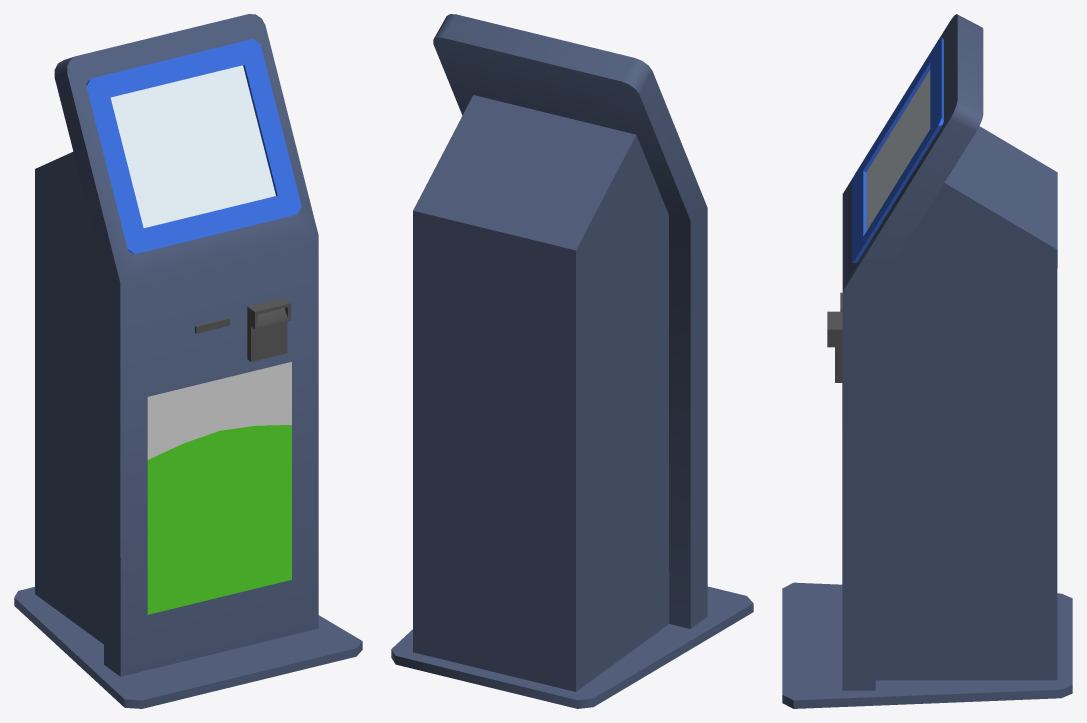
The model's file is atm.fbx.
3 renders of one model, left to right at view 1: azimuth 30°, elevation 25°; view 2: azimuth 150°, elevation 25°; view 3: azimuth 270°, elevation 25°, orthographic. The views are drawn at different scales.
Parts seen in each view (by area): view 1: atm; view 2: atm; view 3: atm.
Part boxes in pixels (bbox=[...]): atm: bbox=[14, 14, 362, 708]; atm: bbox=[391, 14, 753, 708]; atm: bbox=[782, 14, 1072, 708].
Size of the model in its own units: 1.51 by 3.54 by 1.58.
